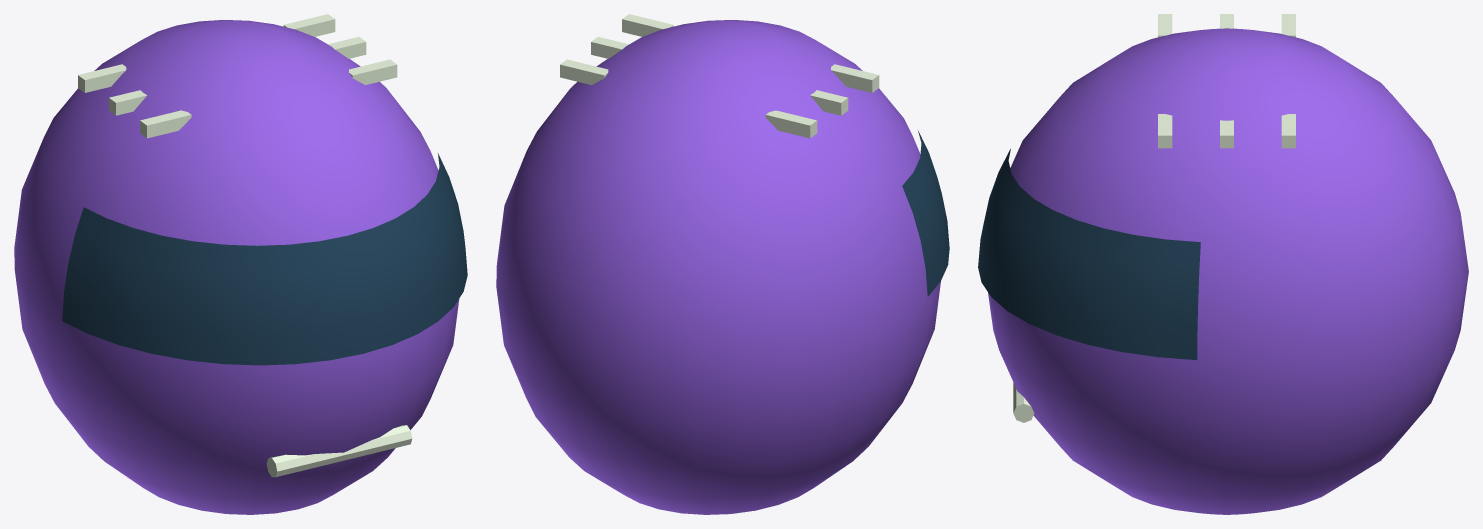
The model's file is halo.glb.
3 renders of one model, left to right at view 1: azimuth 30°, elevation 25°; view 2: azimuth 150°, elevation 25°; view 3: azimuth 270°, elevation 25°, orthographic.
Visible parts, largest first — view 1: Helmet; view 2: Helmet; view 3: Helmet.
Boxes of the visible parts, box(x1,y1,x2,y2) form: Helmet: box(14, 14, 467, 514); Helmet: box(496, 14, 949, 514); Helmet: box(978, 14, 1468, 514).
Bounding box in the file's own units: 0.25 × 0.284 × 0.278.
